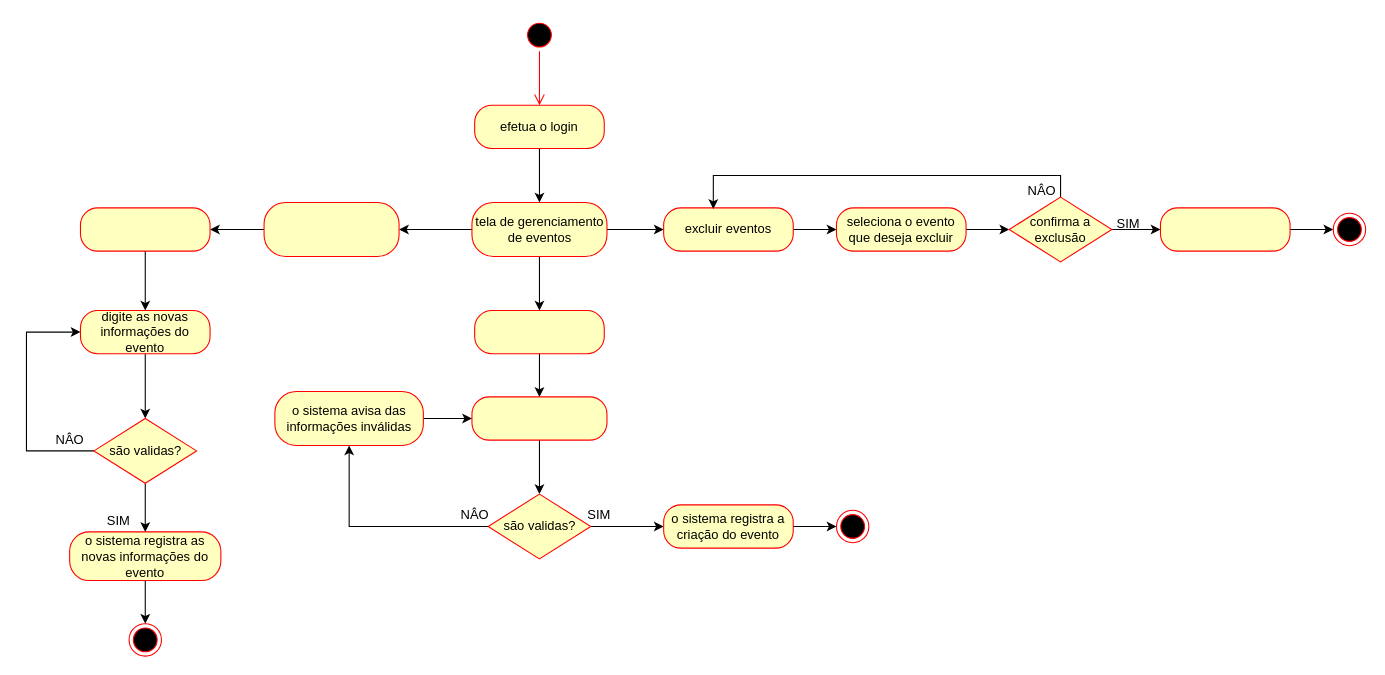
Some shapes in this 1385 by 675 pixel diagram are drawn without their labels. Each missing label, with the centre of its shape:
"criar eventos" goes at (x=539, y=331).
"digita as informações do evento" goes at (x=539, y=418).
"editar eventos" goes at (x=331, y=228).
"o sistema exclui o evento e registra a sua exclusão" goes at (x=1224, y=229).
"seleciona o evento que deseja editar" goes at (x=144, y=229).
